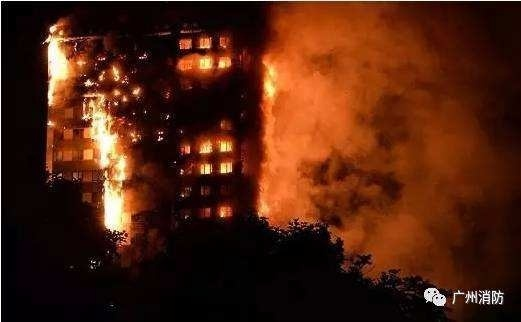fire: (176, 36, 264, 229), (84, 46, 135, 234), (44, 21, 74, 108)
